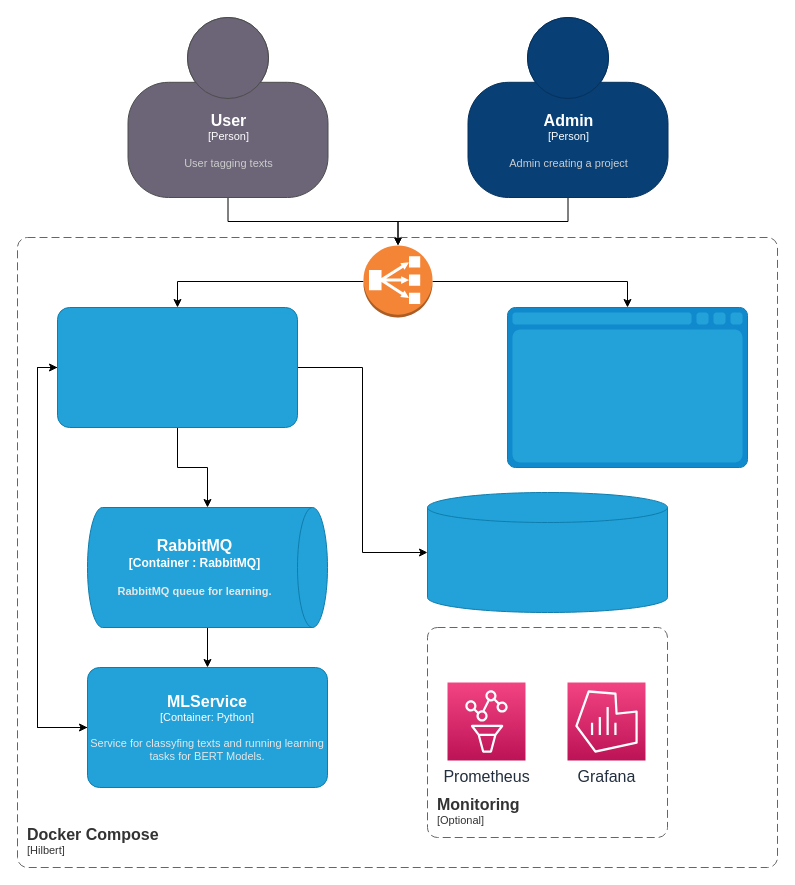
This 795x885 diagram has some shape labels left out. Each missing label, with the centre of its shape:
"Backend [Container: Python] Web API on FastAPI" goes at point 177,367.
"Database [Container : MongoDB] Document-oriented database." goes at point 547,552.
"Frontend [Container : React] Website for users. Hosted via Nginx." goes at point 627,387.
"Traefik" goes at point 397,281.
